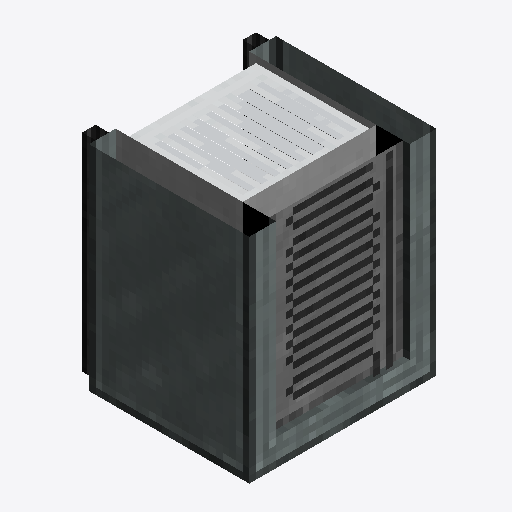
A Minecraft block model of 16 cuboids, rendered isometrically (azimuth 45°, elevation 35.3°) with the resource pack's own textures.
Parts seen in each view (by area): Static_Right, Static_Back, Static_MiddleShelf, Static_Left, Static_Bottom, Static_Heatsink, Static_SealRight.
Part boxes in pixels (bbox=[...]): Static_Right: bbox=[89, 129, 275, 452]; Static_Back: bbox=[243, 125, 402, 428]; Static_MiddleShelf: bbox=[129, 63, 368, 201]; Static_Left: bbox=[249, 36, 435, 359]; Static_Bottom: bbox=[89, 345, 435, 483]; Static_Heatsink: bbox=[286, 150, 392, 399]; Static_SealRight: bbox=[82, 125, 108, 359].
Bounding box in the file's own units: 14 × 16 × 13.